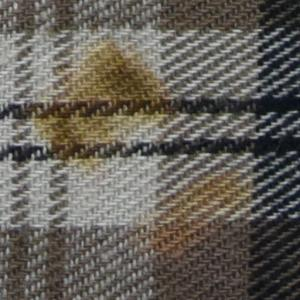Oil Stain: (21, 30, 187, 178), (129, 170, 261, 252)
